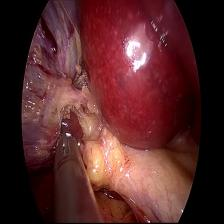Clipper: (53, 116, 86, 174)
